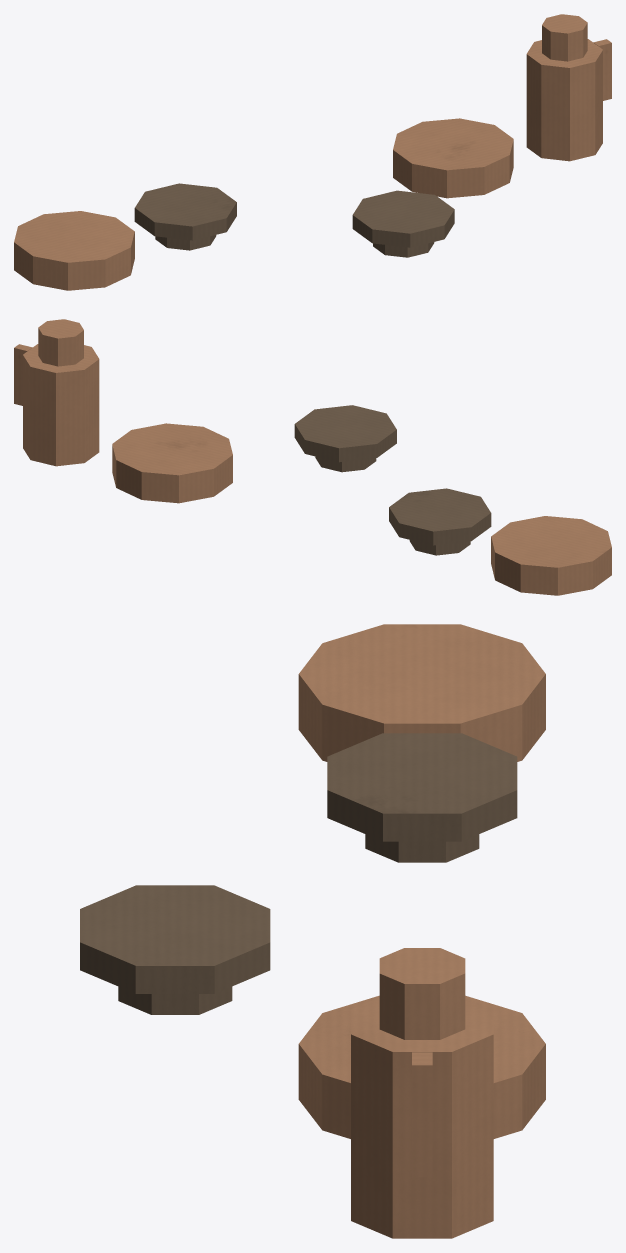
Rendered from tableware.glb.
3 views of the same model, one above another, from view 1: azimuth 30°, elevation 25°; view 2: azimuth 150°, elevation 25°; view 3: azimuth 270°, elevation 25° (orthographic). The views are drawn at different scales.
Visible parts, largest first — view 1: tableware; view 2: tableware; view 3: tableware.
Part boxes in pixels (x1,y1,x2,y2): tableware: (14,14,611,290); tableware: (14,319,611,595); tableware: (80,624,545,1238).
Size of the model in its own units: 1.31 by 0.26 by 0.4524.
2 materials, 2 textured.
